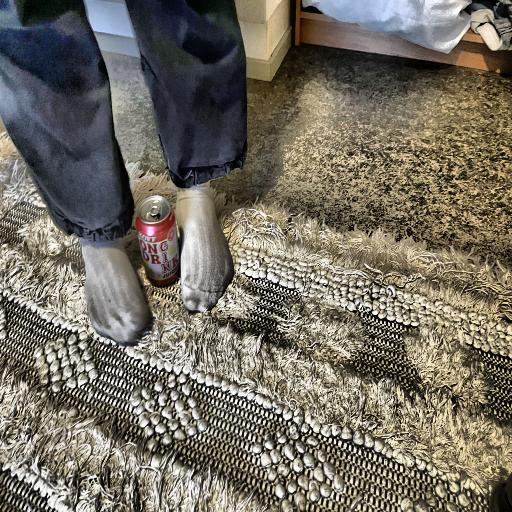koff: (136, 192, 187, 284)
